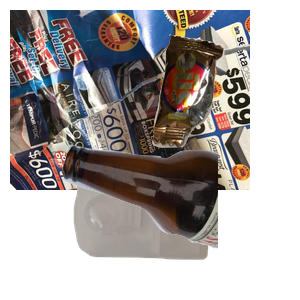glass: (60, 142, 300, 300)
paper: (10, 10, 250, 190)
plastic: (71, 169, 275, 300)
trash: (150, 32, 300, 172)
